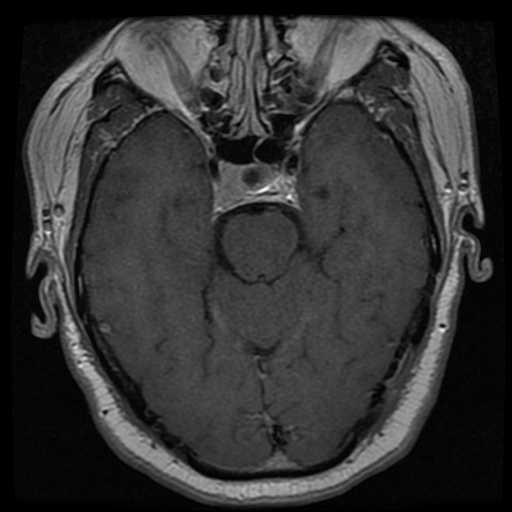pituitary: (212, 161, 273, 213)
